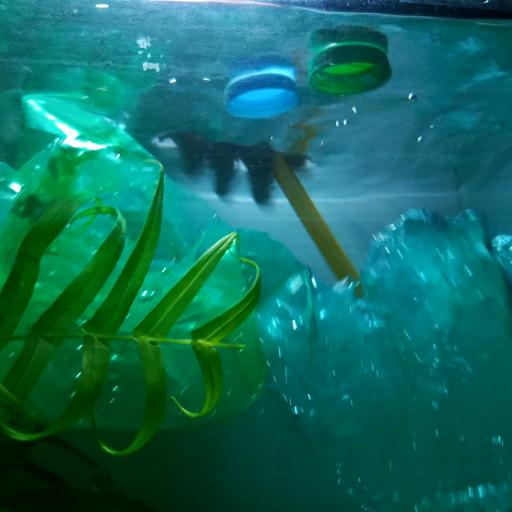bottle_cap: (308, 44, 392, 96), (226, 74, 300, 118)
plastic_bag: (0, 93, 261, 428), (264, 208, 512, 512)
